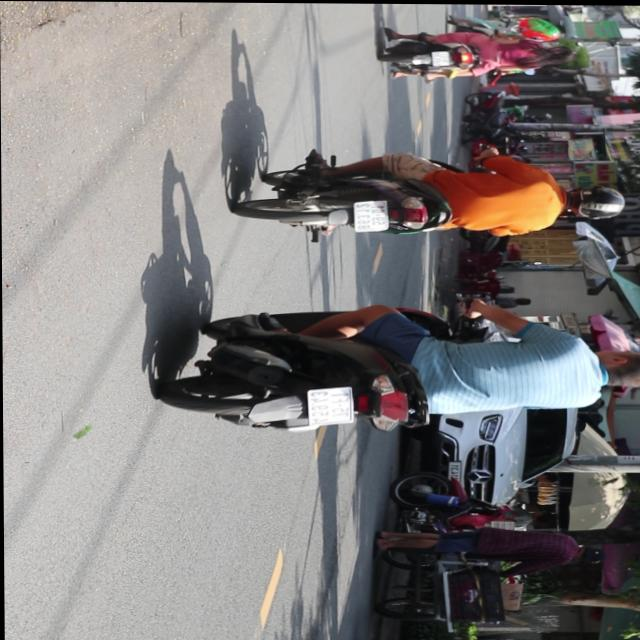helmet: (563, 184, 627, 219)
licenseplate: (156, 295, 640, 438), (236, 146, 630, 244), (379, 26, 587, 83)
motorcyclist: (595, 348, 640, 389), (542, 44, 578, 64)
nohelmet: (310, 387, 354, 425), (355, 201, 389, 231), (433, 50, 451, 65)
